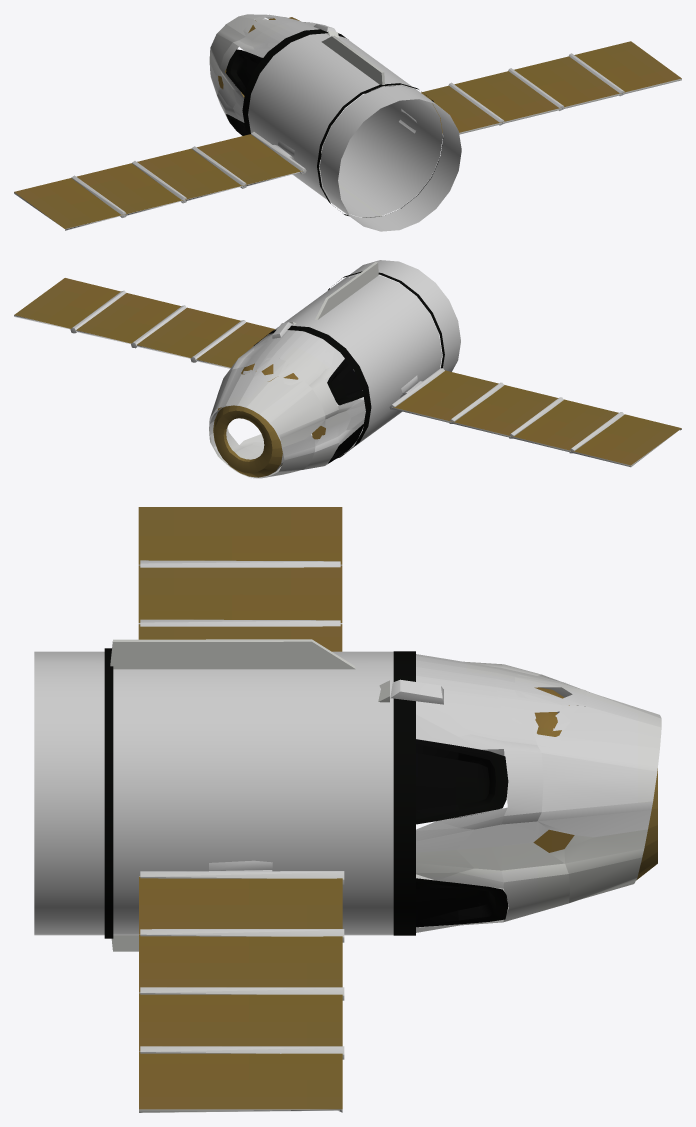
Rendered from space_satellite.glb.
3 renders of one model, top to bottom at view 1: azimuth 30°, elevation 25°; view 2: azimuth 150°, elevation 25°; view 3: azimuth 270°, elevation 25°, orthographic. The views are drawn at different scales.
Parts seen in each view (by area): view 1: SM_MERGED_StaticMeshActor_4014_3; view 2: SM_MERGED_StaticMeshActor_4014_3; view 3: SM_MERGED_StaticMeshActor_4014_3.
Boxes of the visible parts, box(x1,y1,x2,y2) form: SM_MERGED_StaticMeshActor_4014_3: box(14, 14, 681, 231); SM_MERGED_StaticMeshActor_4014_3: box(14, 260, 681, 478); SM_MERGED_StaticMeshActor_4014_3: box(34, 507, 661, 1112).
Bounding box in the file's own units: 18.73 × 4.54 × 8.25.
Materials: 1 (1 with a texture image).
